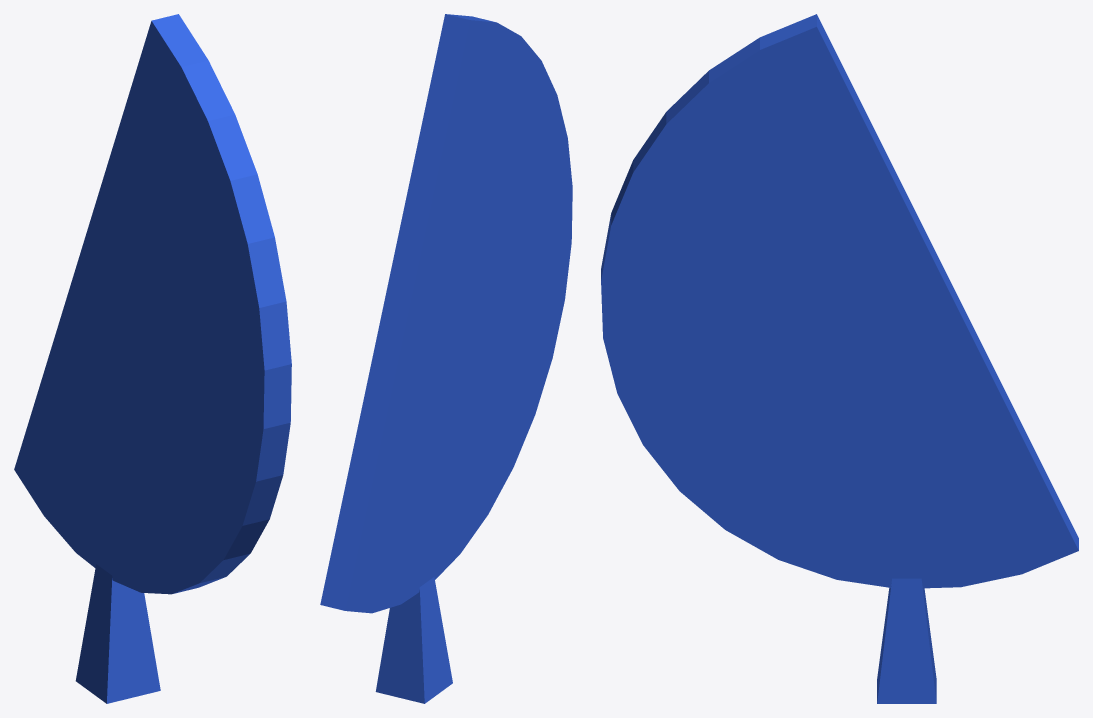
File: globe-stand-collider.glb
3 renders of one model, left to right at view 1: azimuth 30°, elevation 25°; view 2: azimuth 150°, elevation 25°; view 3: azimuth 270°, elevation 25°, orthographic. The views are drawn at different scales.
Visible parts, largest first — view 1: Cylinder.014, Cube.068; view 2: Cylinder.014, Cube.068; view 3: Cylinder.014, Cube.068.
Part boxes in pixels (box(x1,y1,x2,y2)): Cylinder.014: box(14, 14, 291, 594); Cube.068: box(75, 564, 160, 703); Cylinder.014: box(320, 14, 572, 613); Cube.068: box(375, 577, 452, 703); Cylinder.014: box(601, 14, 1078, 588); Cube.068: box(877, 578, 936, 703).
Bounding box in the file's own units: 0.2099 × 2.61 × 1.69.
